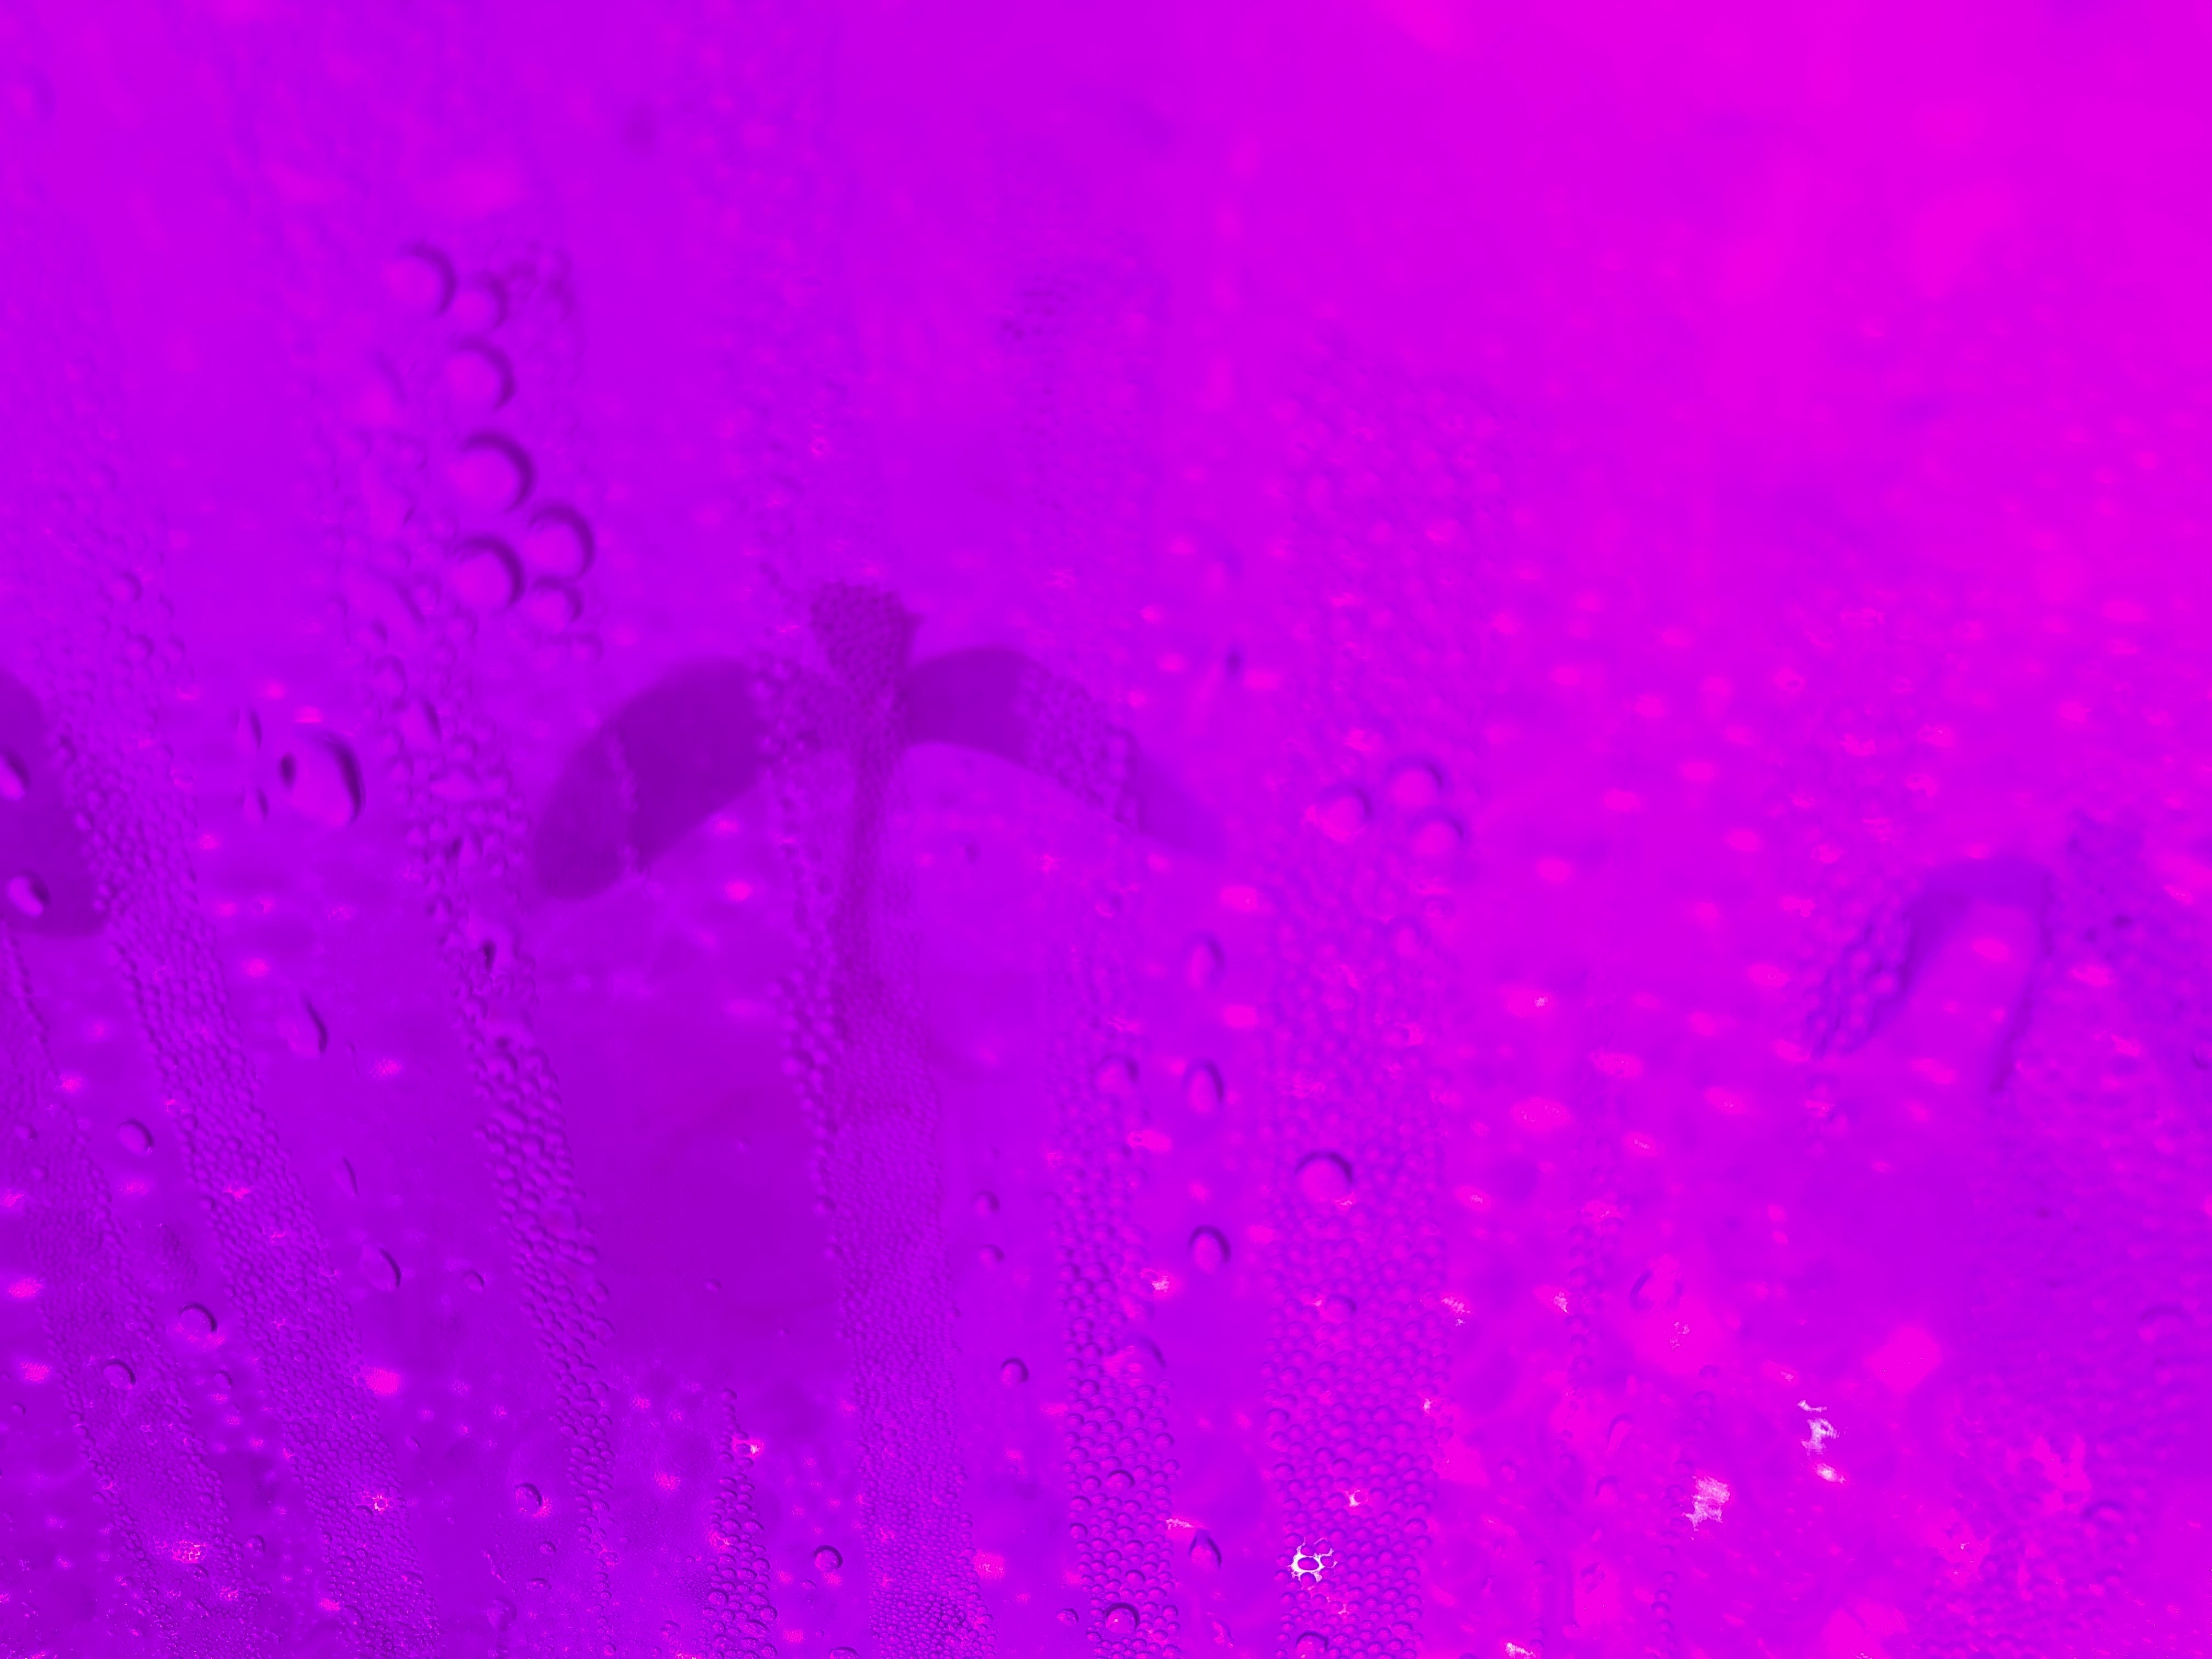lil_plant: (493, 490, 1263, 1119), (1827, 708, 2212, 1187)
